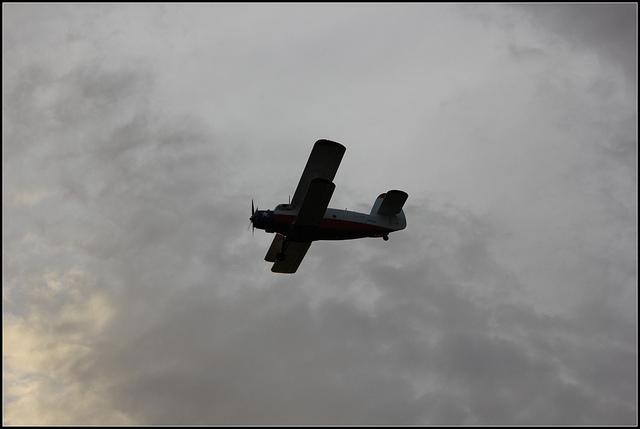airplane: (239, 136, 411, 274)
